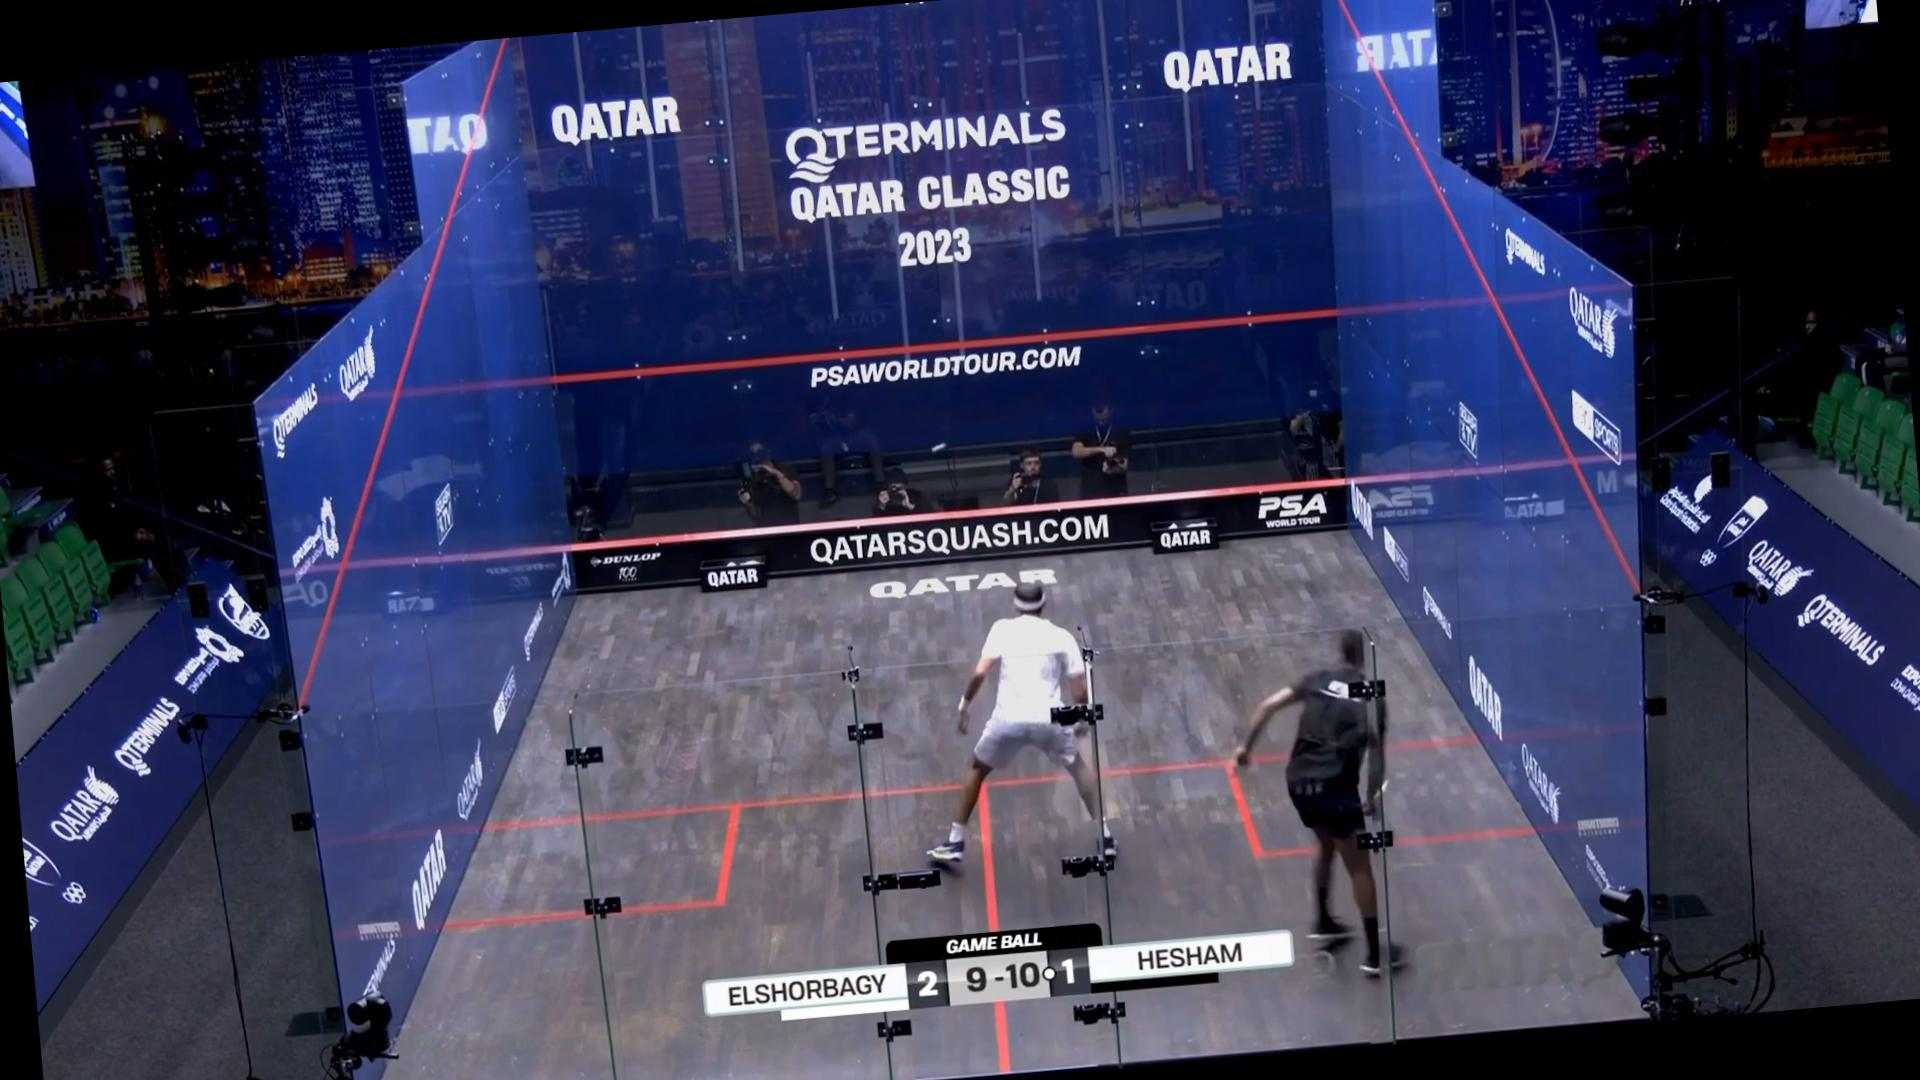Squash-Ball: (916, 435, 963, 465)
